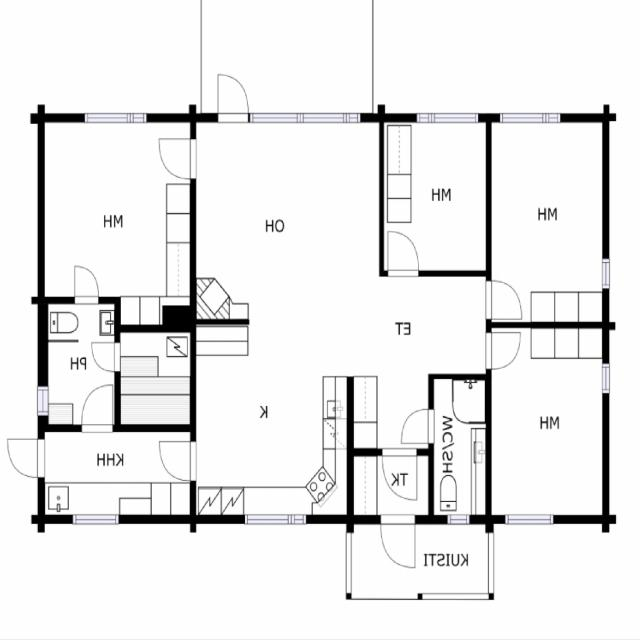door: (380, 514, 414, 567), (383, 448, 416, 499), (158, 139, 196, 179), (81, 385, 112, 431), (159, 442, 196, 480), (218, 76, 248, 122), (388, 230, 418, 276), (8, 439, 44, 477), (486, 331, 522, 369), (486, 281, 522, 318), (402, 409, 434, 444), (75, 267, 98, 304), (92, 343, 120, 372)
